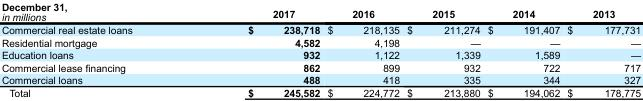table: (0, 1, 640, 98)
table column: (0, 1, 189, 98), (189, 1, 323, 98), (402, 1, 483, 98), (323, 1, 402, 98), (483, 1, 562, 98), (562, 1, 640, 98)
table column header: (0, 1, 640, 23)
table row: (0, 1, 640, 23), (0, 35, 640, 48), (0, 60, 640, 73), (0, 73, 640, 86), (0, 23, 640, 35), (0, 48, 640, 60), (0, 86, 640, 98)
